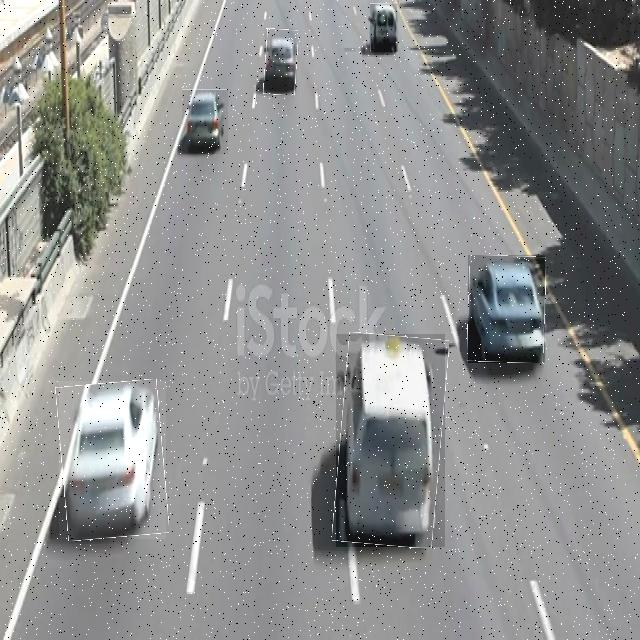Car: (59, 381, 166, 539), (468, 255, 545, 363), (182, 89, 228, 154), (264, 29, 297, 94), (370, 3, 398, 52)
Truck: (336, 334, 445, 547)
